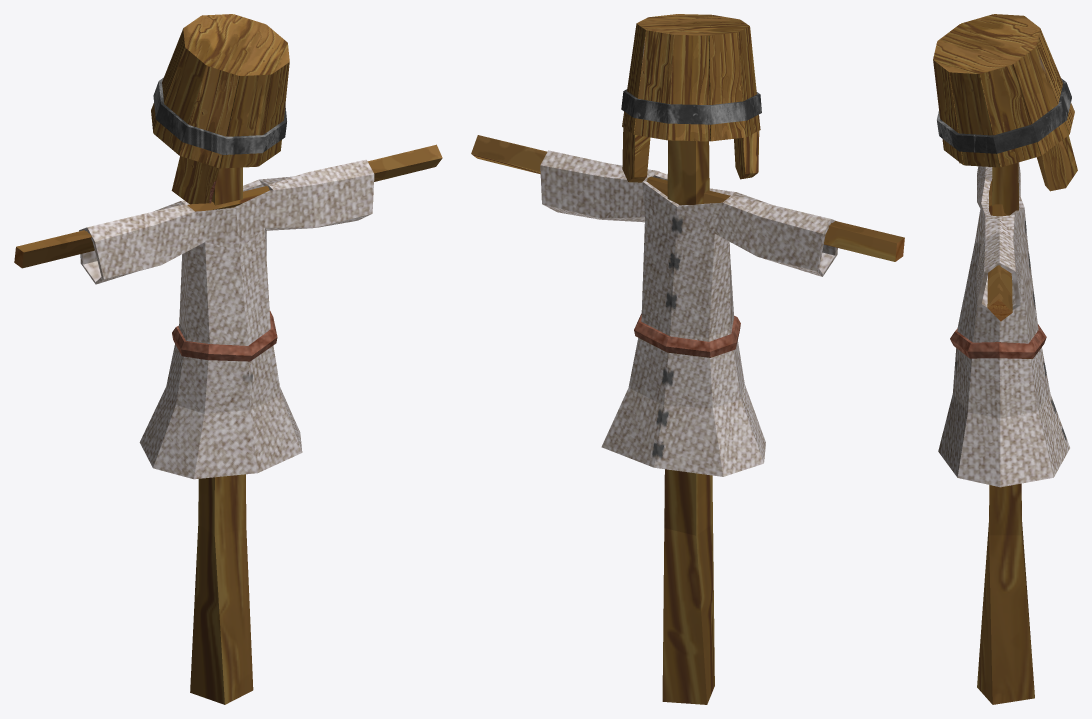
Rendered from scarecrow.glb.
3 views of the same model, side by side, from view 1: azimuth 30°, elevation 25°; view 2: azimuth 150°, elevation 25°; view 3: azimuth 270°, elevation 25° (orthographic).
Parts seen in each view (by area): view 1: low_poly_body, low_poly_bucket.001, low_poly_cross, low_poly_belt; view 2: low_poly_body, low_poly_cross, low_poly_bucket.001, low_poly_belt; view 3: low_poly_body, low_poly_bucket.001, low_poly_cross, low_poly_belt.
Boxes of the visible parts, left/top/right/bottom form: low_poly_body: left=79, top=159, right=374, bottom=479; low_poly_bucket.001: left=151, top=14, right=289, bottom=204; low_poly_cross: left=14, top=144, right=442, bottom=704; low_poly_belt: left=172, top=311, right=277, bottom=361; low_poly_body: left=540, top=150, right=837, bottom=476; low_poly_cross: left=471, top=135, right=904, bottom=704; low_poly_bucket.001: left=621, top=14, right=761, bottom=182; low_poly_belt: left=634, top=313, right=740, bottom=357; low_poly_body: left=938, top=162, right=1069, bottom=487; low_poly_bucket.001: left=933, top=14, right=1077, bottom=191; low_poly_cross: left=977, top=162, right=1034, bottom=704; low_poly_belt: left=950, top=324, right=1046, bottom=358.
Bounding box in the file's own units: 1.5 × 2.28 × 0.4526.
1 material, 1 textured.
